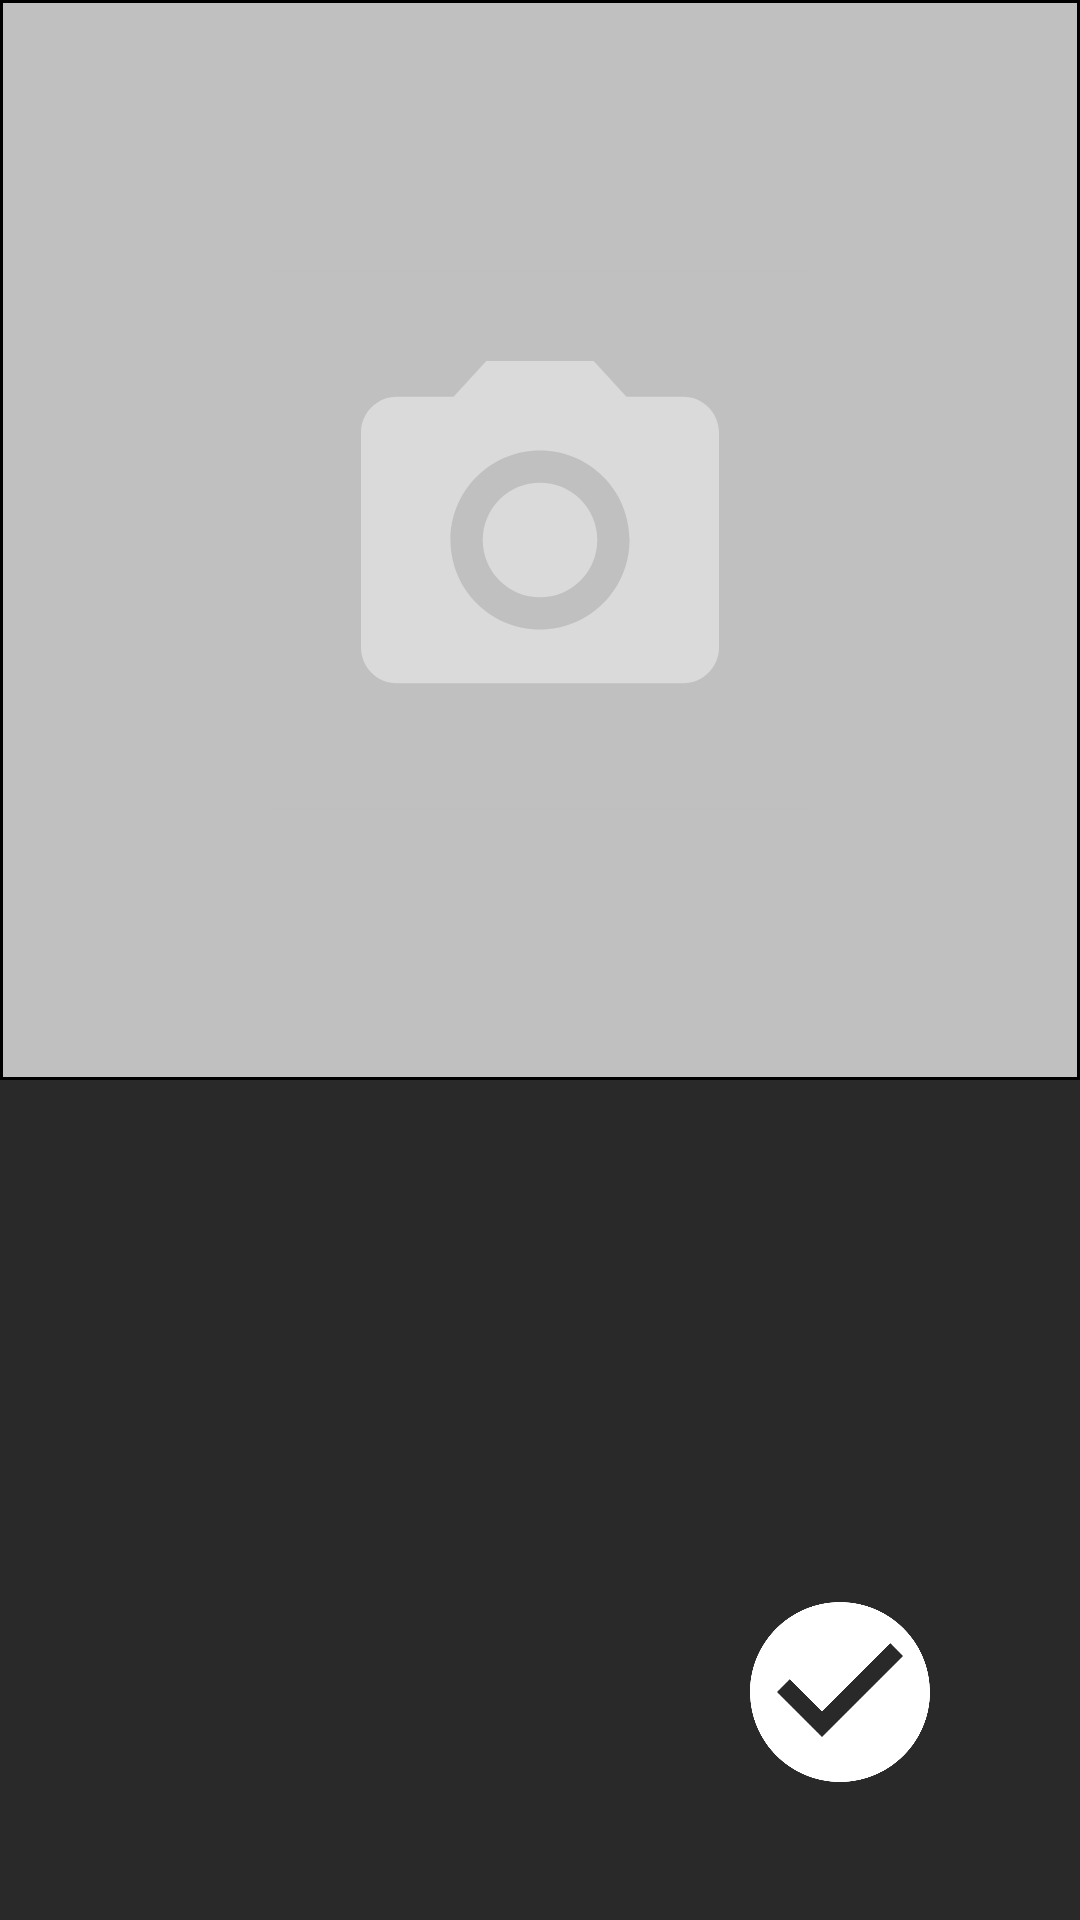

Point at icon controls on the screen. Image size 1080*1920, points as (x=x, y=y).
Confirm: (x=840, y=1692)
